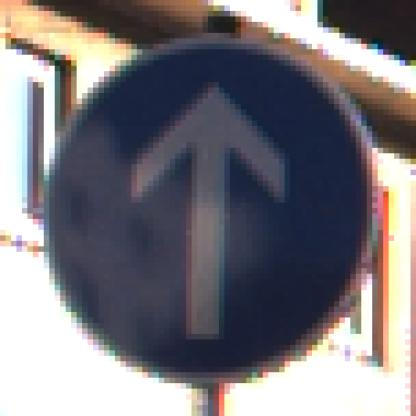AheadOnly: (39, 34, 384, 384)
